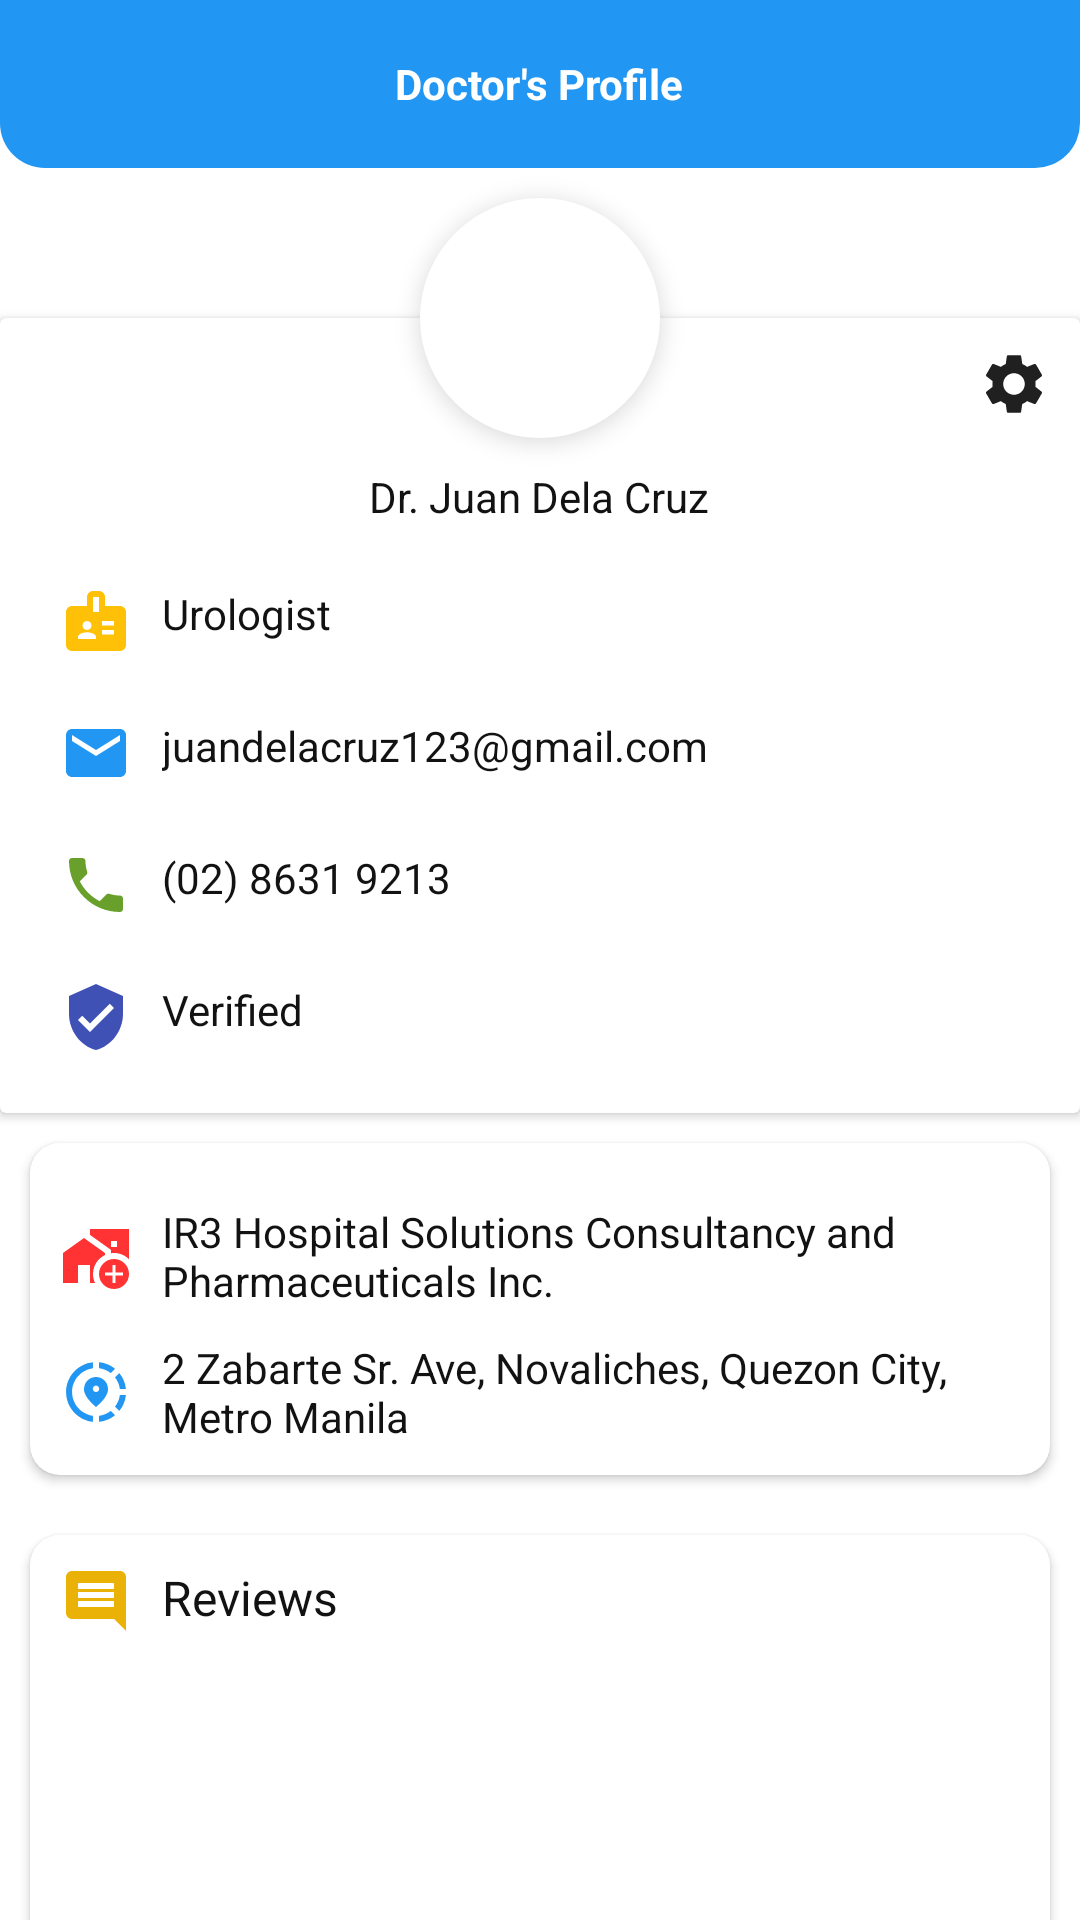

Screen size 1080px×1920px. Icon name, then its center in pixels as point (x, y):
settings: point (1014, 384)
